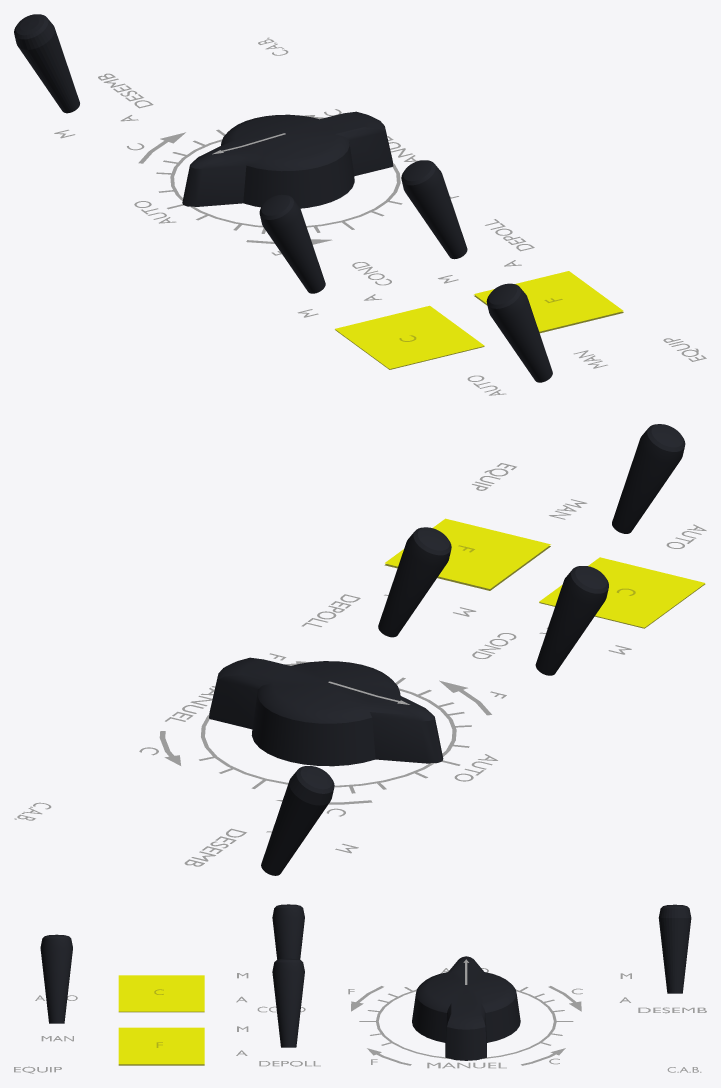
Rendered from cond.fbx.
3 renders of one model, top to bottom at view 1: azimuth 30°, elevation 25°; view 2: azimuth 150°, elevation 25°; view 3: azimuth 270°, elevation 25°, orthographic. The views are drawn at different scales.
Parts seen in each view (by area): view 1: cond.molette, cond.lampeC-ON, cond.texte, cond.lampeF-ON, cond.switch2, cond.switch3, cond.switch0, cond.switch1; view 2: cond.molette, cond.texte, cond.lampeF-ON, cond.lampeC-ON, cond.switch1, cond.switch2, cond.switch0, cond.switch3; view 3: cond.molette, cond.lampeF-ON, cond.lampeC-ON, cond.texte, cond.switch1, cond.switch3, cond.switch0, cond.switch2.
Part boxes in pixels (x1,y1,x2,y2): cond.molette: [182, 111, 393, 208]; cond.lampeC-ON: [335, 305, 484, 368]; cond.texte: [54, 37, 706, 395]; cond.lampeF-ON: [474, 271, 623, 331]; cond.switch2: [259, 194, 325, 293]; cond.switch3: [14, 14, 79, 113]; cond.switch0: [486, 283, 552, 382]; cond.switch1: [401, 160, 467, 259]; cond.molette: [209, 657, 443, 766]; cond.texte: [14, 463, 706, 866]; cond.lampeF-ON: [385, 518, 550, 588]; cond.lampeC-ON: [539, 557, 705, 627]; cond.switch1: [378, 527, 451, 637]; cond.switch2: [535, 566, 608, 675]; cond.switch0: [612, 424, 685, 533]; cond.switch3: [261, 766, 334, 875]; cond.molette: [412, 956, 520, 1060]; cond.lampeF-ON: [118, 1027, 204, 1064]; cond.lampeC-ON: [118, 975, 204, 1011]; cond.texte: [14, 968, 706, 1073]; cond.switch1: [272, 958, 304, 1047]; cond.switch3: [658, 904, 691, 993]; cond.switch0: [40, 934, 72, 1023]; cond.switch2: [272, 904, 304, 959].
Size of the model in its own units: 2.74 by 7.6 by 0.9626.
